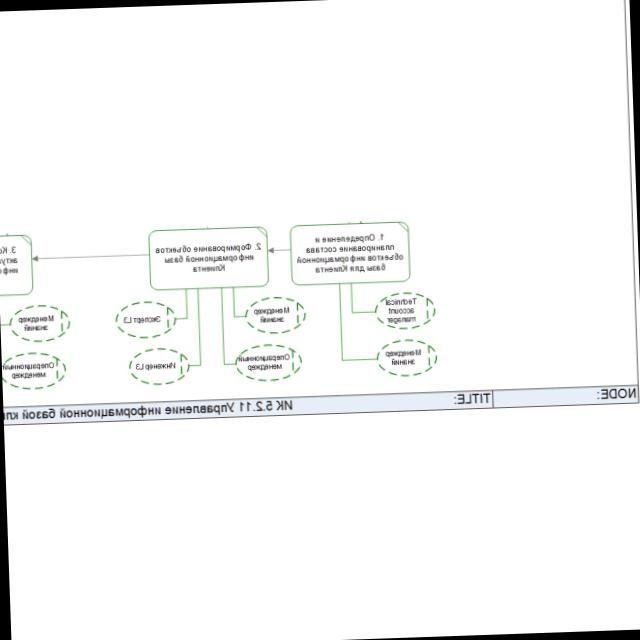arrow: (33, 250, 147, 261), (268, 245, 289, 253)
rectangle: (290, 222, 410, 286), (148, 227, 268, 290)
